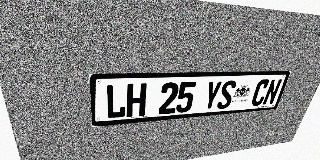2: (158, 82, 179, 114)
5: (175, 82, 197, 113)
C: (250, 79, 271, 106)
H: (126, 83, 147, 117)
L: (105, 84, 126, 119)
N: (262, 79, 283, 105)
S: (216, 80, 237, 109)
Y: (202, 81, 223, 111)
